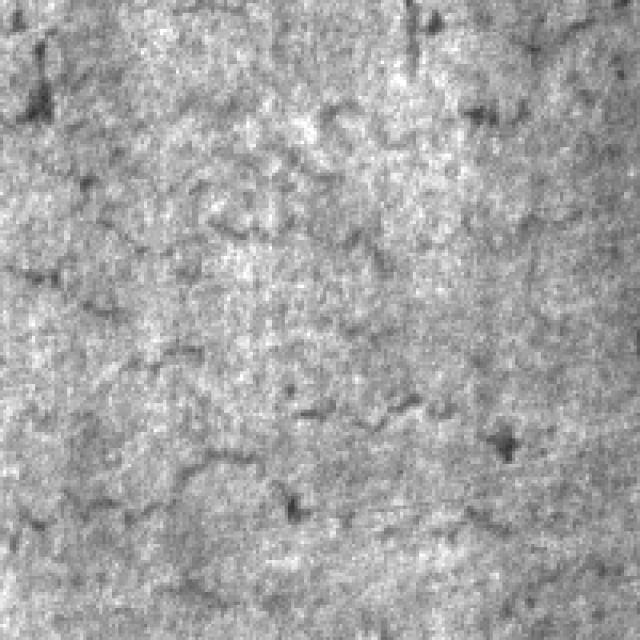crazing: (0, 330, 506, 547), (35, 77, 461, 291), (394, 0, 602, 138)
